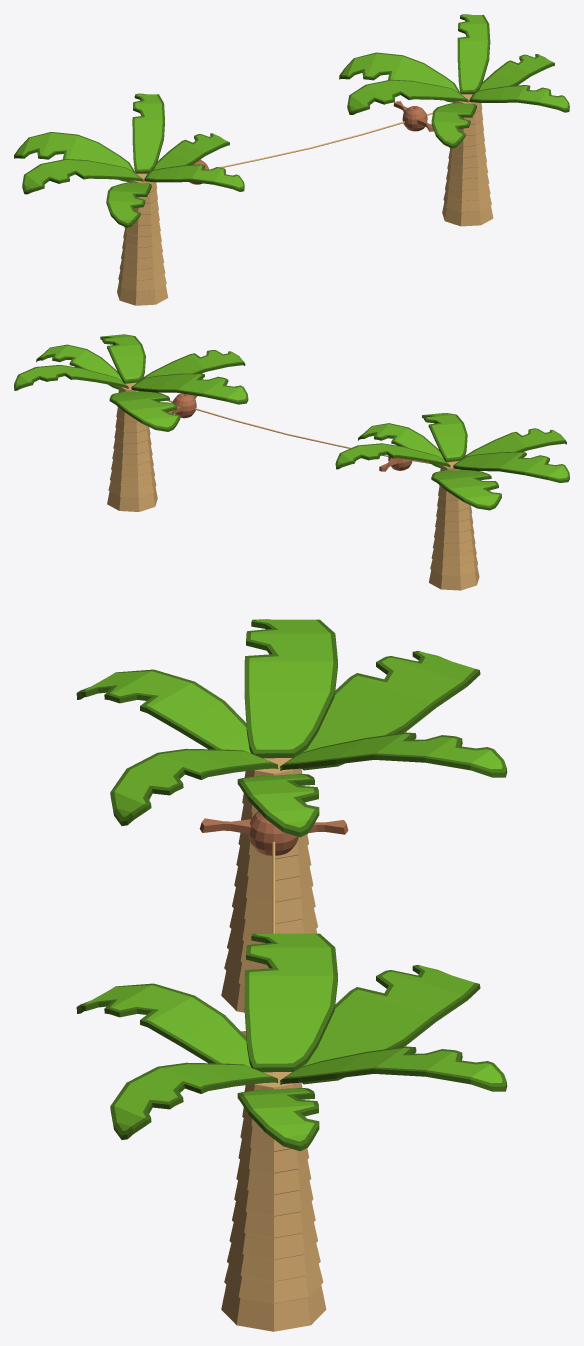
File: palm_zipline_equal_long.glb
The picture shows the model from 3 angles, top to bottom: view 1: azimuth 30°, elevation 25°; view 2: azimuth 150°, elevation 25°; view 3: azimuth 270°, elevation 25°; orthographic projection. The views are drawn at different scales.
Parts seen in each view (by area): view 1: PZLeqlo-col, HolderRight-col; view 2: PZLeqlo-col, HolderRight-col; view 3: PZLeqlo-col, HolderLeft-col.
Part boxes in pixels (x1,y1,x2,y2): PZLeqlo-col: (14,14,569,305); HolderRight-col: (393,101,433,131); PZLeqlo-col: (14,334,569,590); HolderRight-col: (168,393,197,418); PZLeqlo-col: (76,619,507,1331); HolderLeft-col: (199,811,348,855).
Size of the model in its own units: 17 by 4.56 by 6.02.
2 materials, 2 textured.
